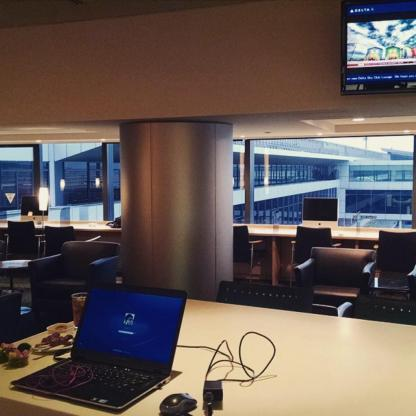board: (10, 286, 189, 414)
